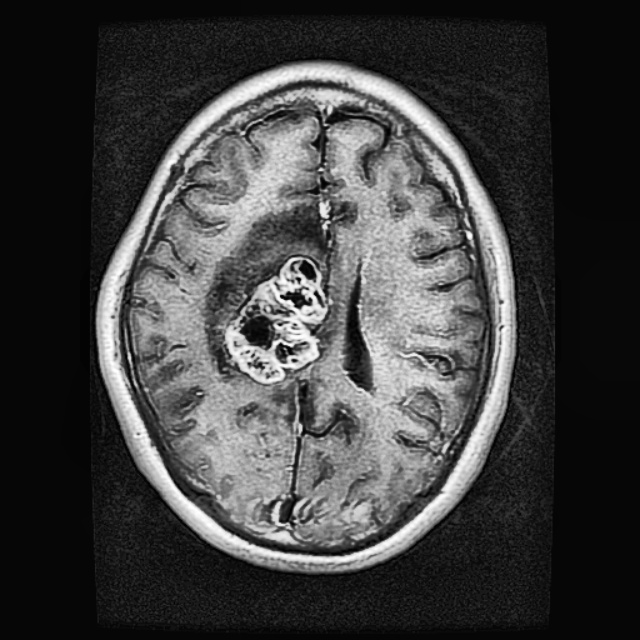Pituitary: (207, 194, 358, 383)
